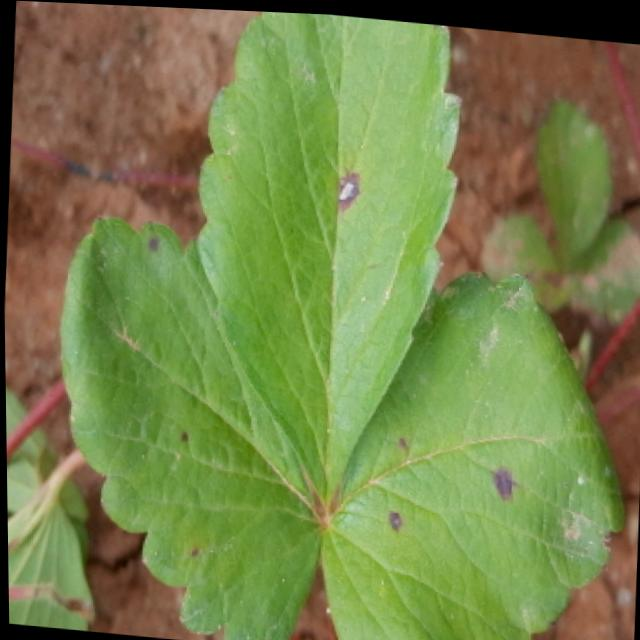Leaf Spot: (194, 9, 463, 509), (320, 263, 627, 640), (58, 214, 324, 640), (481, 202, 567, 309)
